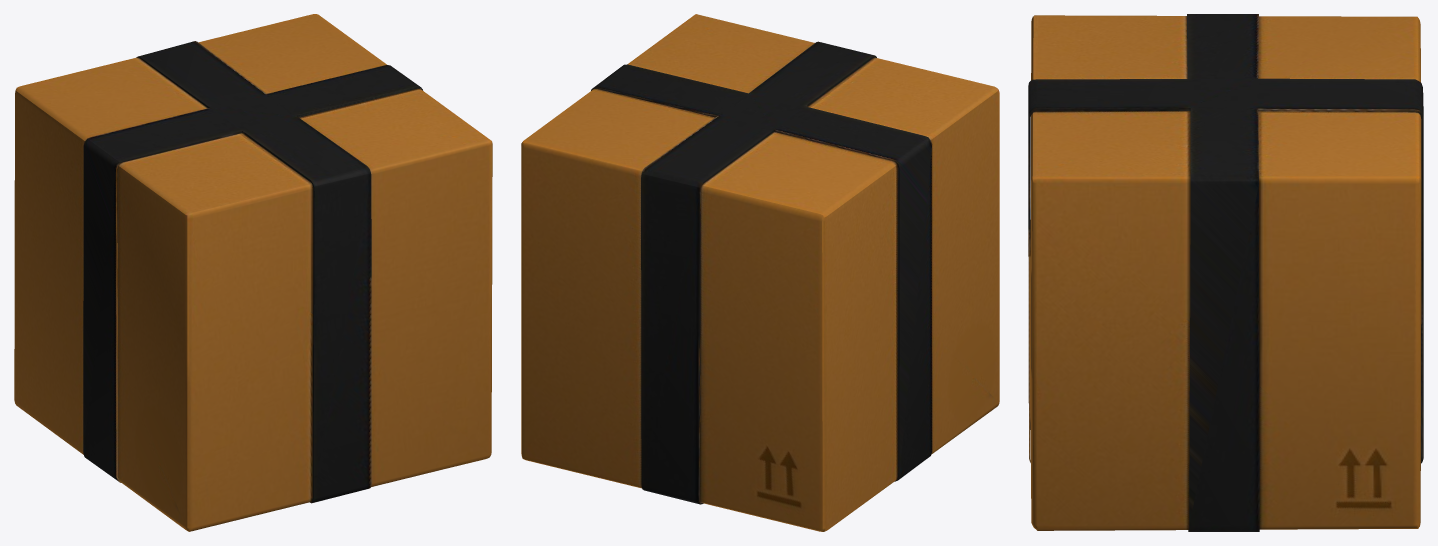
3 renders of one model, left to right at view 1: azimuth 30°, elevation 25°; view 2: azimuth 150°, elevation 25°; view 3: azimuth 270°, elevation 25°, orthographic. The views are drawn at different scales.
Parts seen in each view (by area): view 1: tripo_node_4d18ba0e, tripo_node_4d18ba0e001; view 2: tripo_node_4d18ba0e, tripo_node_4d18ba0e001; view 3: tripo_node_4d18ba0e, tripo_node_4d18ba0e001.
Part boxes in pixels (box(x1,y1,x2,y2)): tripo_node_4d18ba0e: box(14, 14, 492, 531); tripo_node_4d18ba0e001: box(83, 41, 422, 503); tripo_node_4d18ba0e: box(521, 14, 999, 531); tripo_node_4d18ba0e001: box(591, 41, 932, 504); tripo_node_4d18ba0e: box(1030, 15, 1421, 530); tripo_node_4d18ba0e001: box(1028, 14, 1423, 531).
Size of the model in its own units: 99.8 by 99.8 by 99.8.
1 material, 1 textured.
